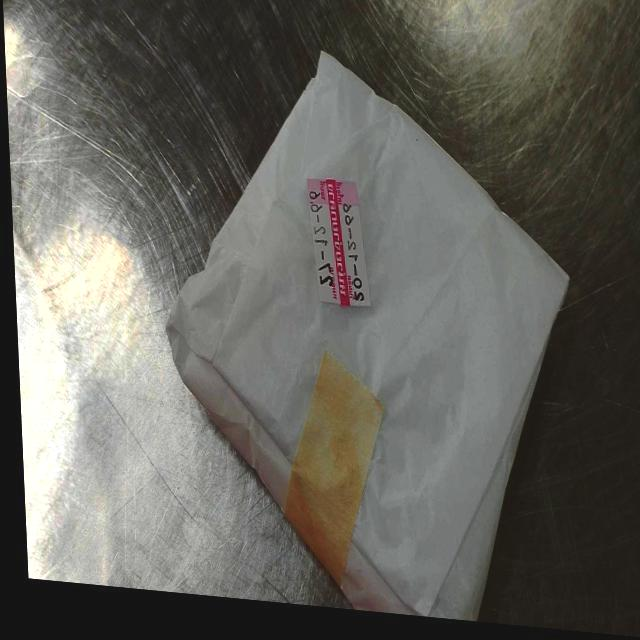General: (163, 49, 572, 619)
Sharps: (306, 176, 373, 307)
